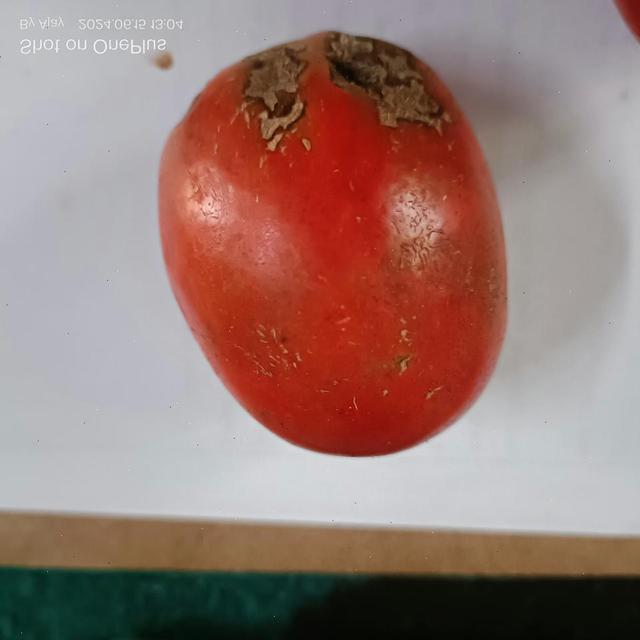Bacterial Spot Fruit: (61, 55, 254, 71)
